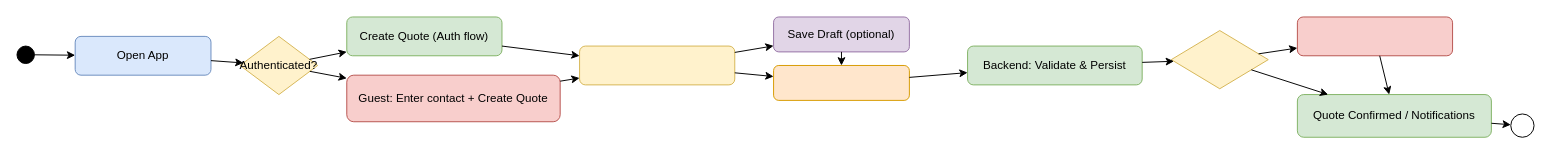
Some shapes in this 1551 by 154 pixel diagram are drawn without their labels. Each missing label, with the centre of its shape:
"Add Items / Services" goes at (x=657, y=65).
"Admin Review / Approve" goes at (x=1374, y=36).
"Requires Approval?" goes at (x=1219, y=59).
"Submit Quote" goes at (x=841, y=82).
